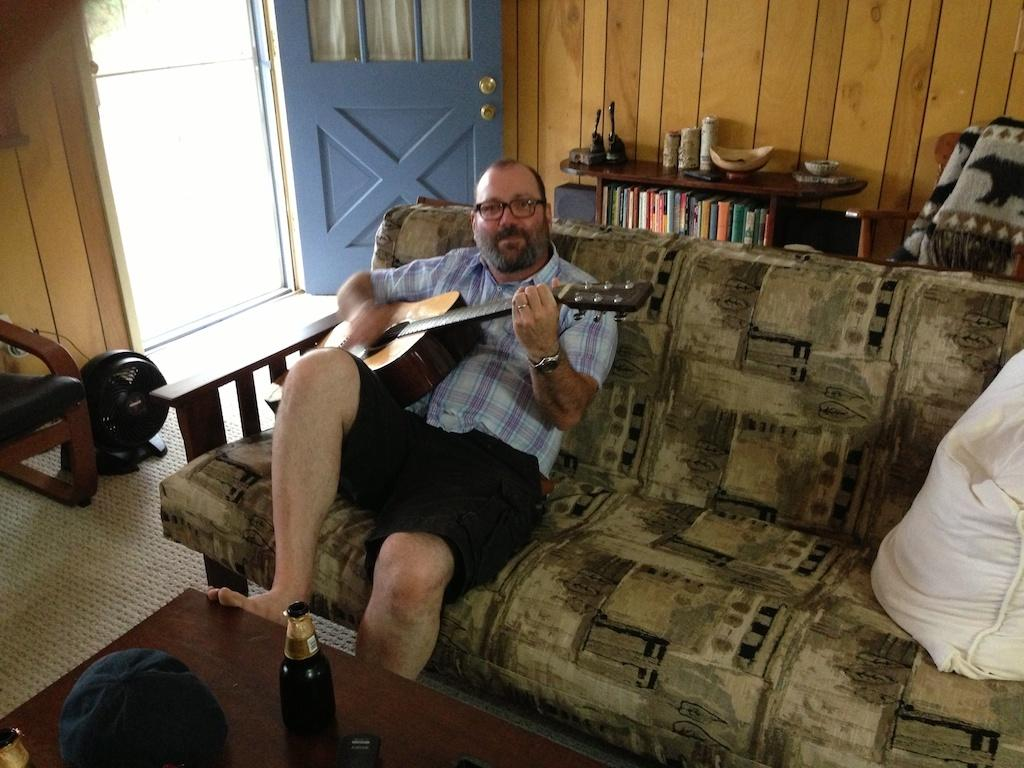Chair: (0, 319, 87, 510)
